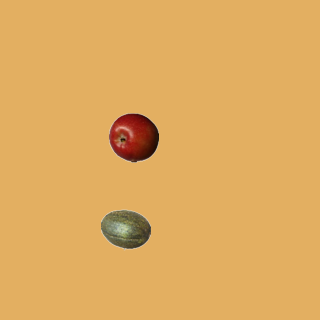Apple Braeburn: (108, 112, 158, 162)
Melon Piel de Sapo: (100, 204, 150, 254)
